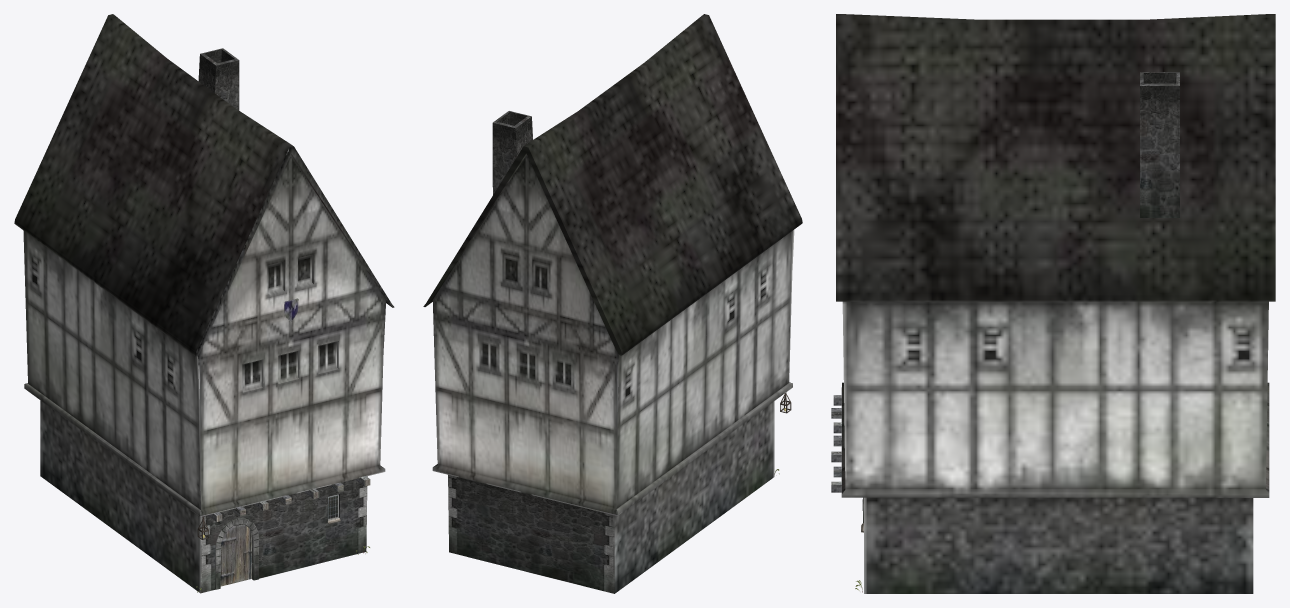
Rendered from OldHouse.obj.
3 renders of one model, left to right at view 1: azimuth 30°, elevation 25°; view 2: azimuth 150°, elevation 25°; view 3: azimuth 270°, elevation 25°, orthographic. The views are drawn at different scales.
Visible parts, largest first — view 1: obj0; view 2: obj0; view 3: obj0.
Boxes of the visible parts, box(x1,y1,x2,y2) form: obj0: box(14, 14, 394, 593); obj0: box(423, 14, 802, 593); obj0: box(831, 14, 1275, 593).
Size of the model in its own units: 8.45 by 17.64 by 13.44.
Materials: 21 (18 with a texture image).
